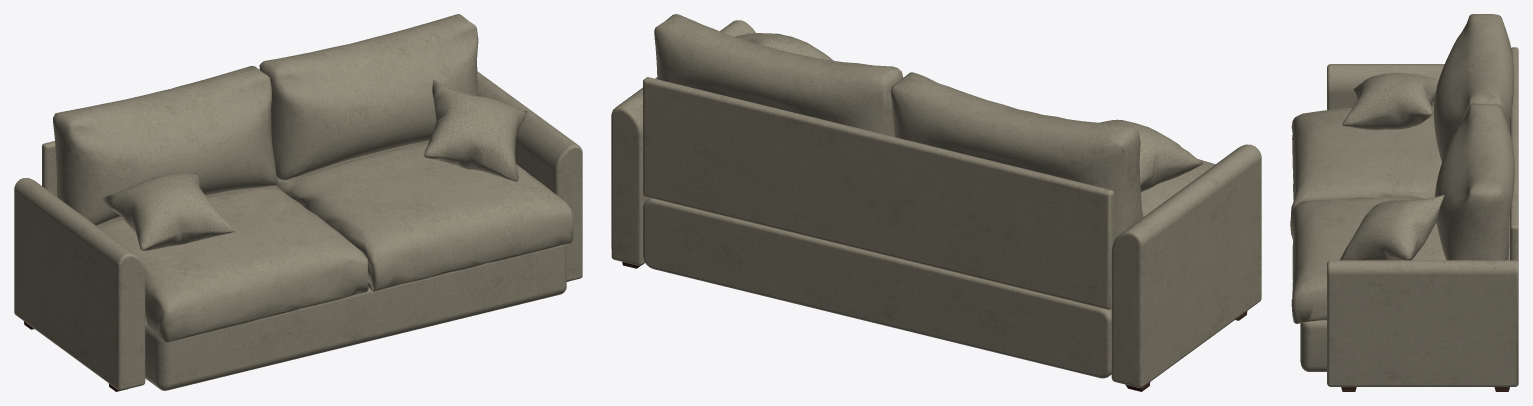
Rendered from u_divan_2_mestnyy.glb.
3 views of the same model, side by side, from view 1: azimuth 30°, elevation 25°; view 2: azimuth 150°, elevation 25°; view 3: azimuth 270°, elevation 25° (orthographic). The views are drawn at different scales.
Parts seen in each view (by area): view 1: defaultMaterial (×3); view 2: defaultMaterial (×3); view 3: defaultMaterial (×3).
Boxes of the visible parts, <box> form: defaultMaterial (×3): <box>14,14,582,391</box>; defaultMaterial (×3): <box>611,14,1261,391</box>; defaultMaterial (×3): <box>1290,14,1518,391</box>.
Bounding box in the file's own units: 2 × 0.8755 × 0.9423.
Materials: 3 (3 with a texture image).
